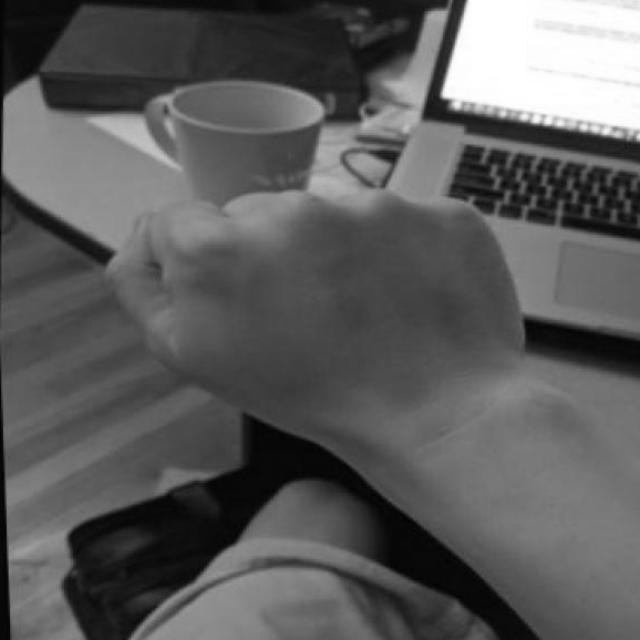A: (94, 183, 553, 442)
